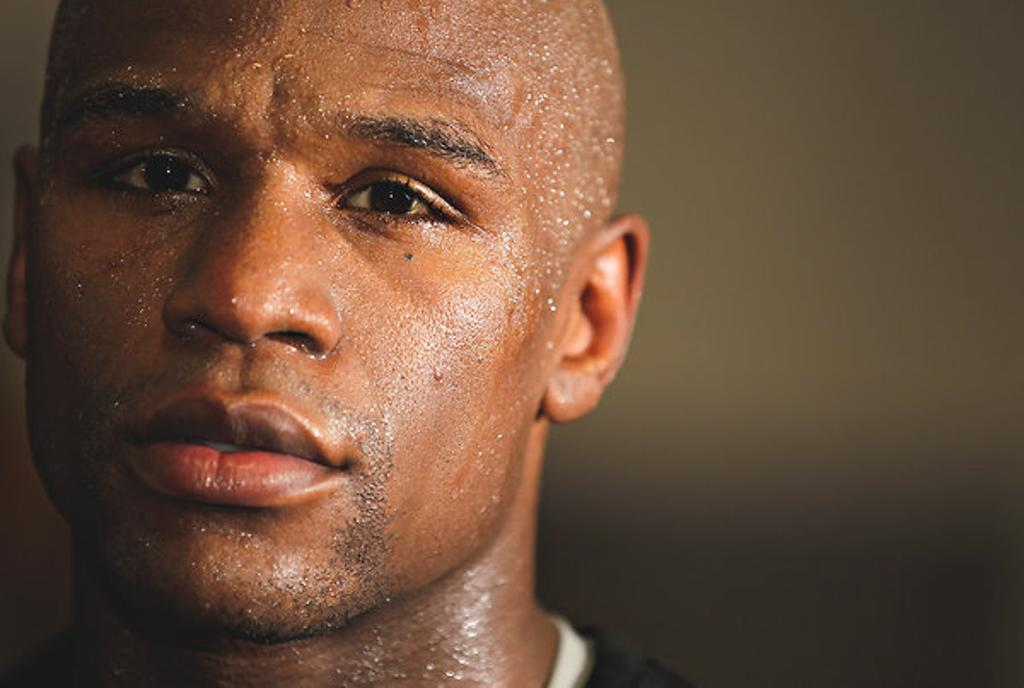face: (34, 12, 542, 630)
